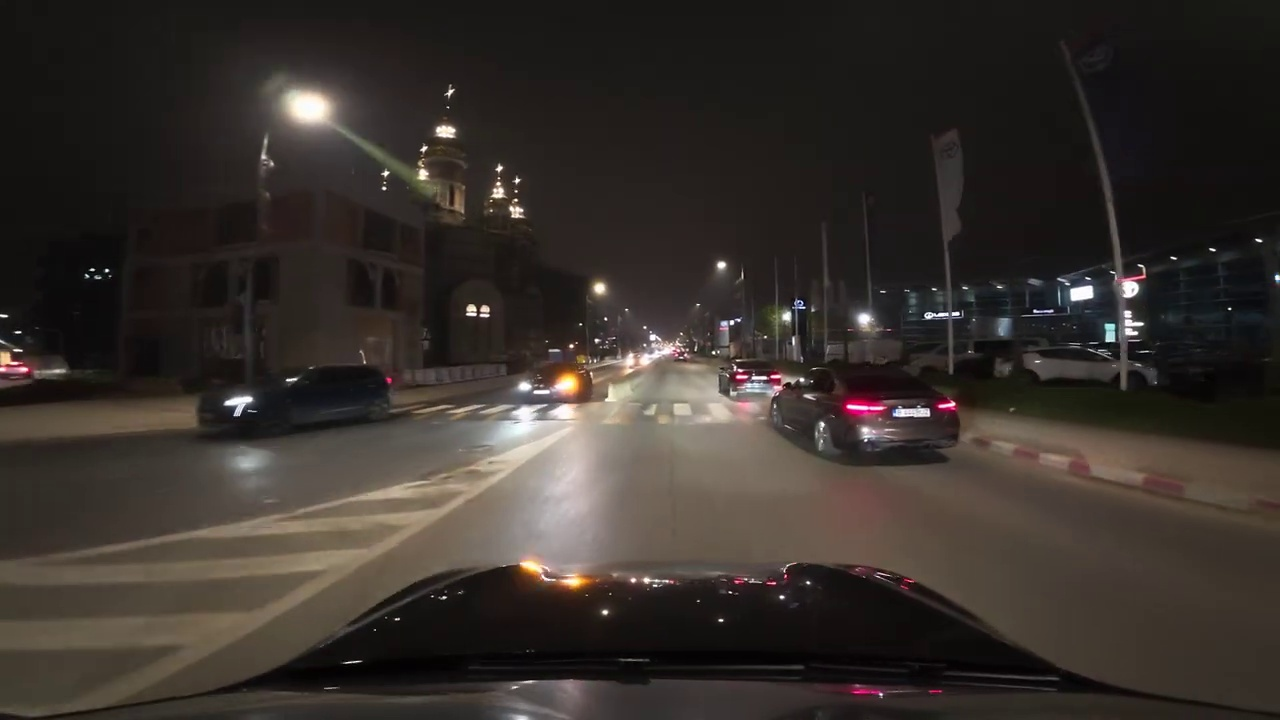acesa: (286, 91, 331, 128), (709, 257, 734, 282), (589, 278, 612, 301)
